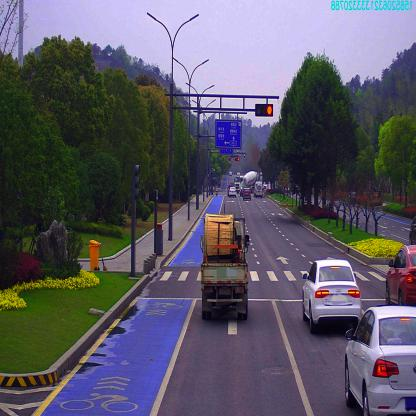traffic-light: (256, 104, 272, 117)
